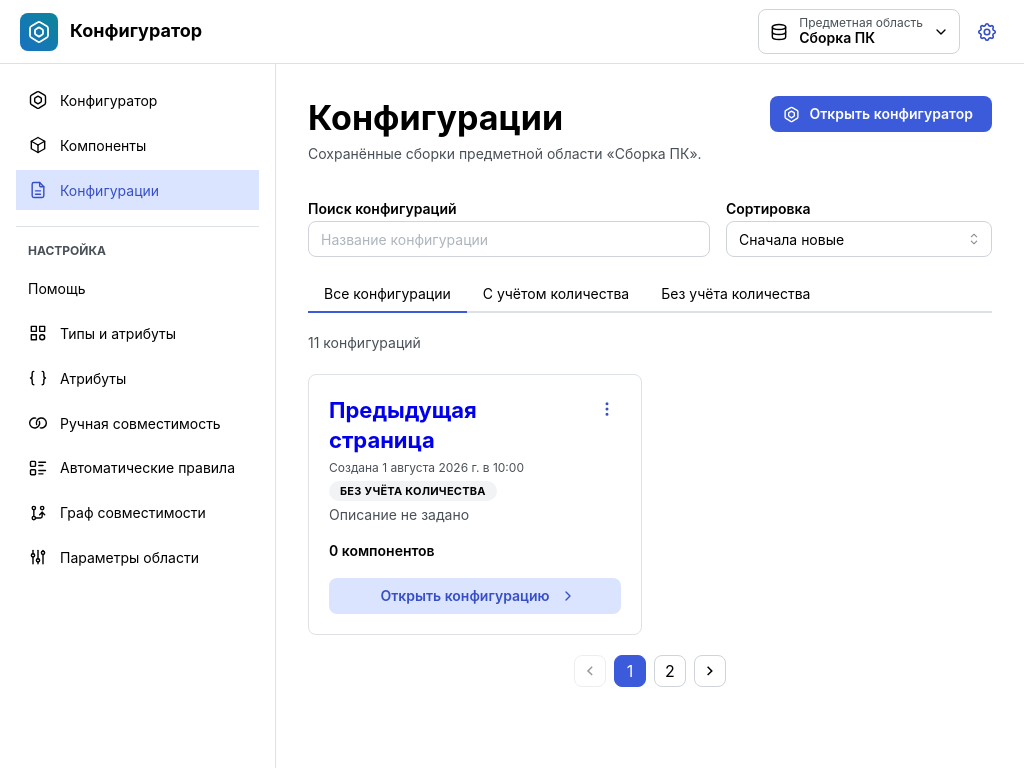
ConfigurationsPage › returns to the previous page after deleting its last configuration
expect the heading "Предыдущая страница" is shown: met, box [329,397,477,453]
Step 1. Click the button "2" → coordinates (670, 671), box [654,655,686,687]
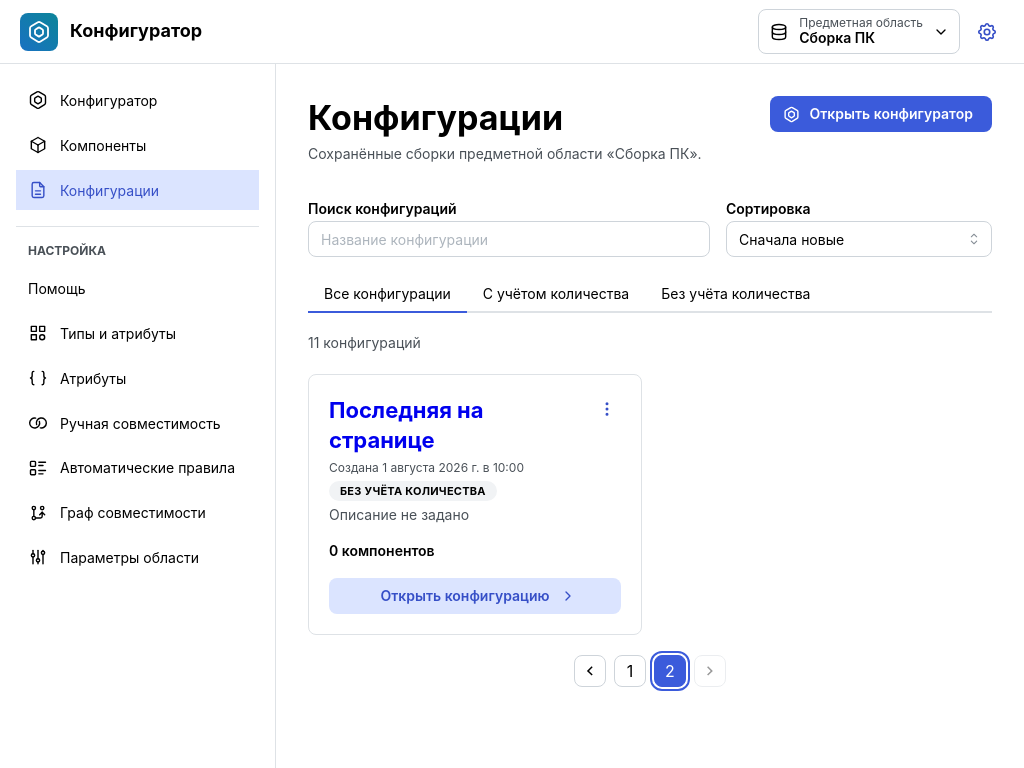
expect the heading "Последняя на странице" is shown: met, box [329,397,484,453]
Step 2. Click the button named "Действия с конфигурацией Последняя на странице" → coordinates (607, 409), box [593,395,621,423]
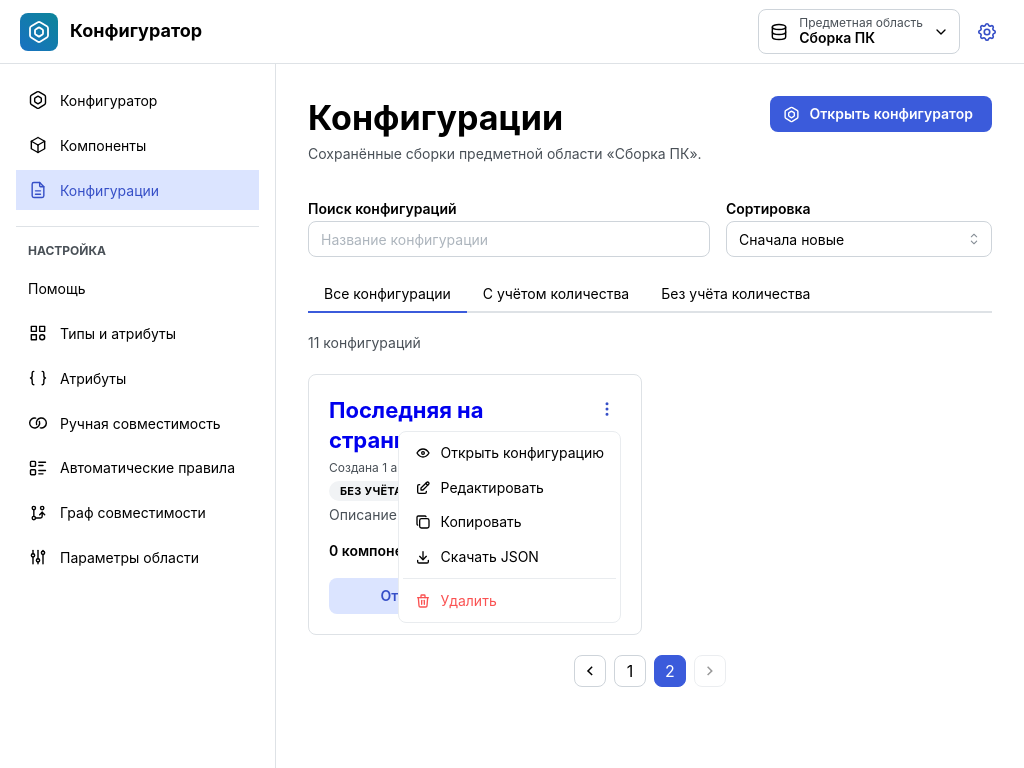
Step 3. Click the menu item "Удалить" → coordinates (509, 601), box [403,583,616,618]
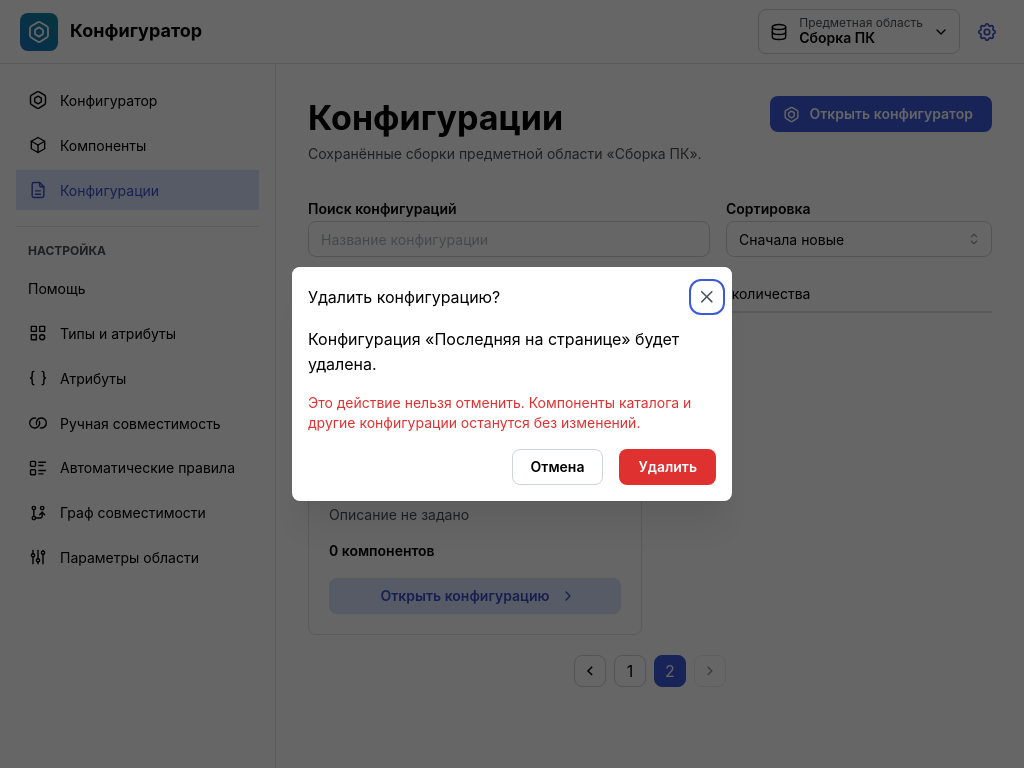
Step 4. Click the button "Удалить" → coordinates (668, 467), box [619,449,716,485]
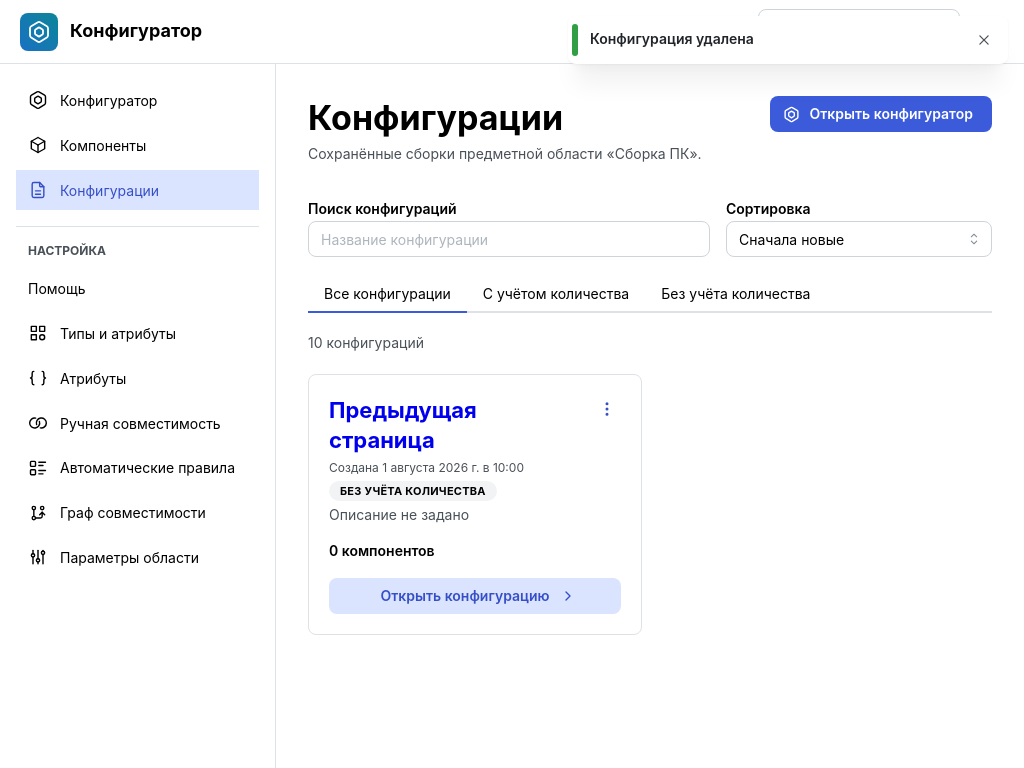
expect the heading "Предыдущая страница" is shown: met, box [329,397,477,453]
